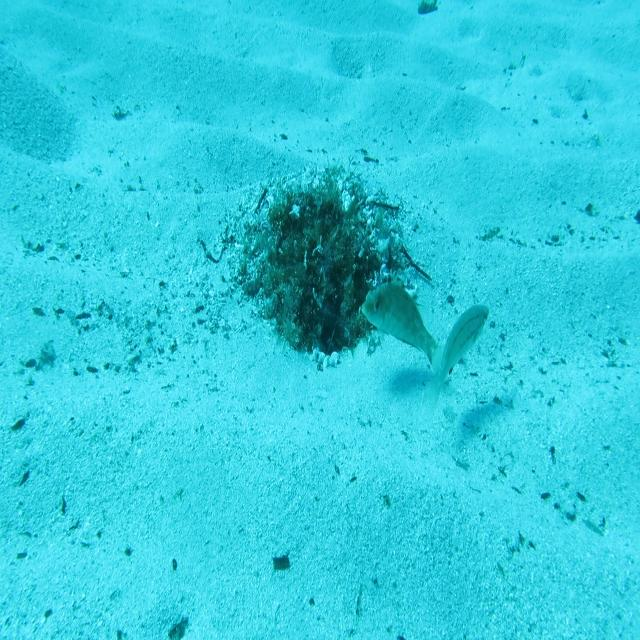MAF: (360, 266, 444, 378)
core_nest: (291, 207, 343, 266)
female: (422, 302, 491, 430)
nest: (218, 134, 440, 388)
vegetation: (416, 0, 442, 16), (273, 551, 290, 570)
